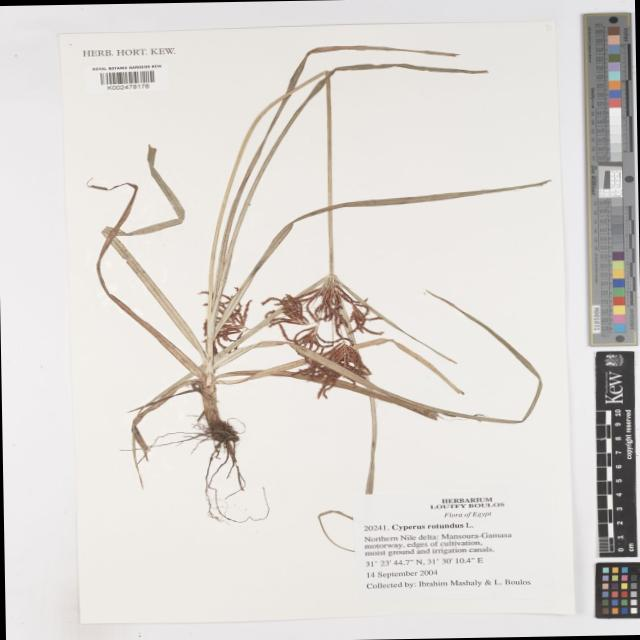cyperus: (260, 273, 402, 407)
